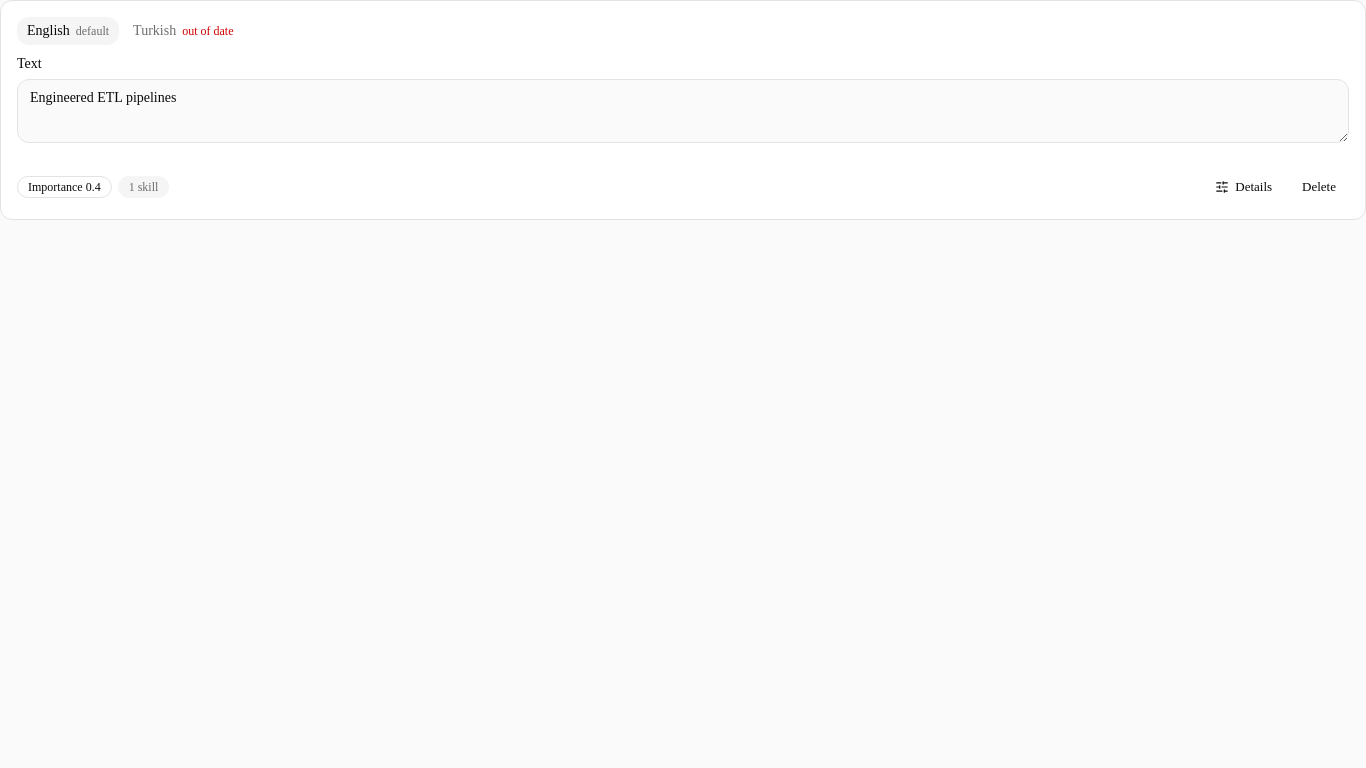
Test: the atom editor › keeps the plain field for a wording with no marks
Click the button with aria-label "Show the details of".
click(1244, 187)  # box [1202, 171, 1285, 203]
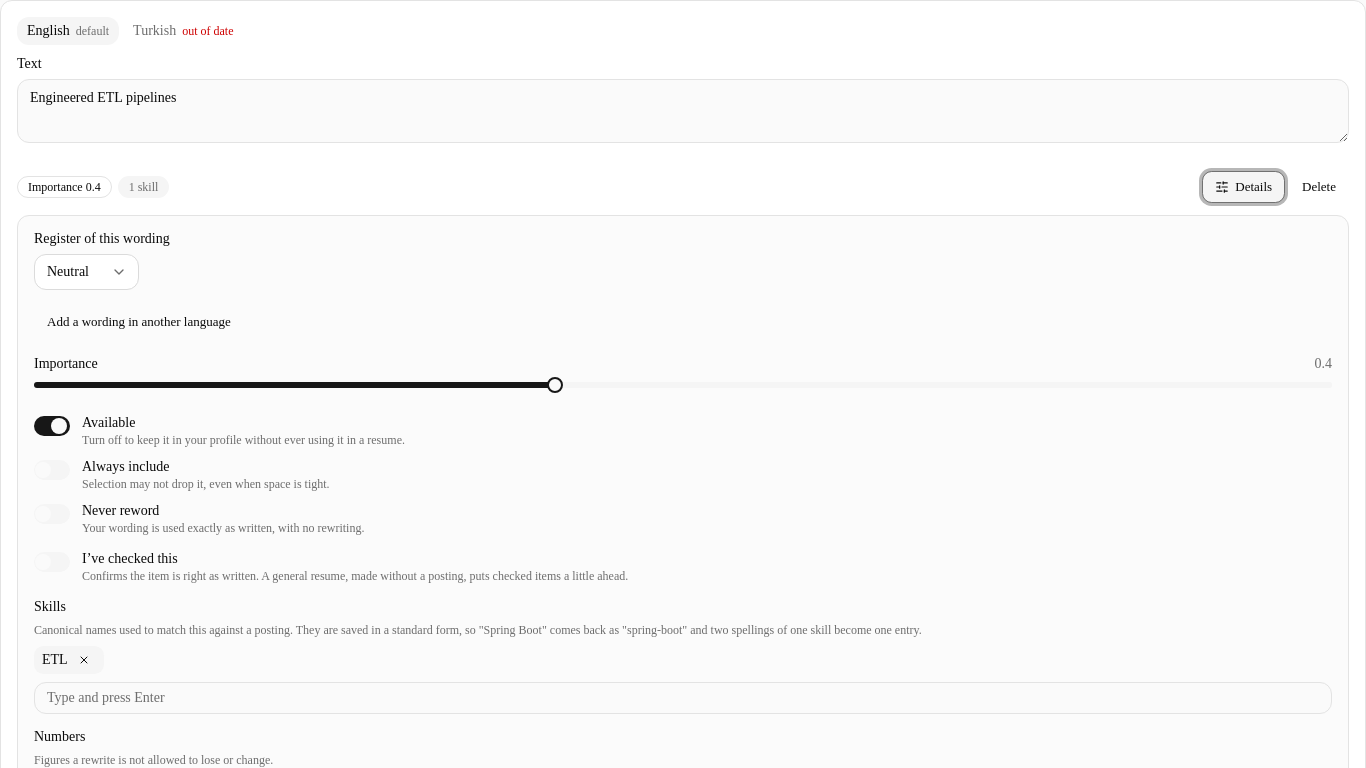
Check: the slider named "Importance" is shown, box [547, 377, 563, 393]
